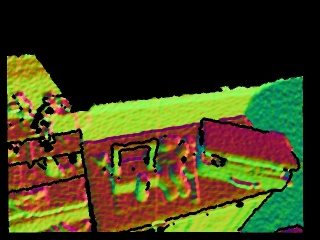station: (110, 139, 159, 194)
